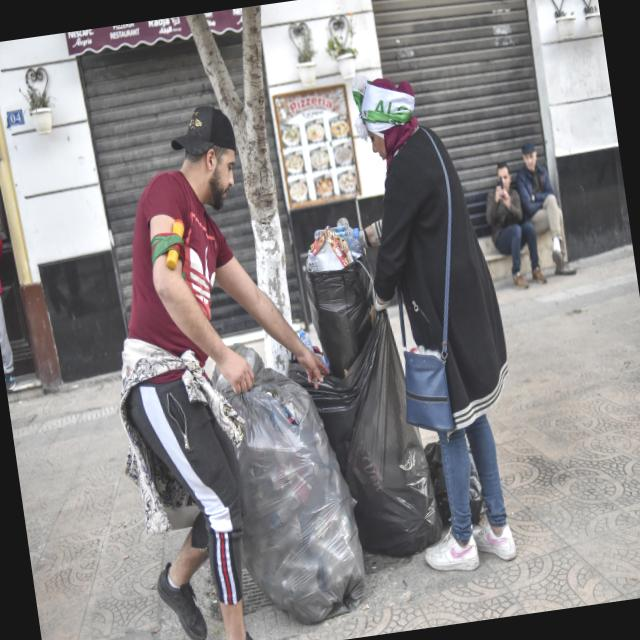garbage: (187, 206, 461, 640)
